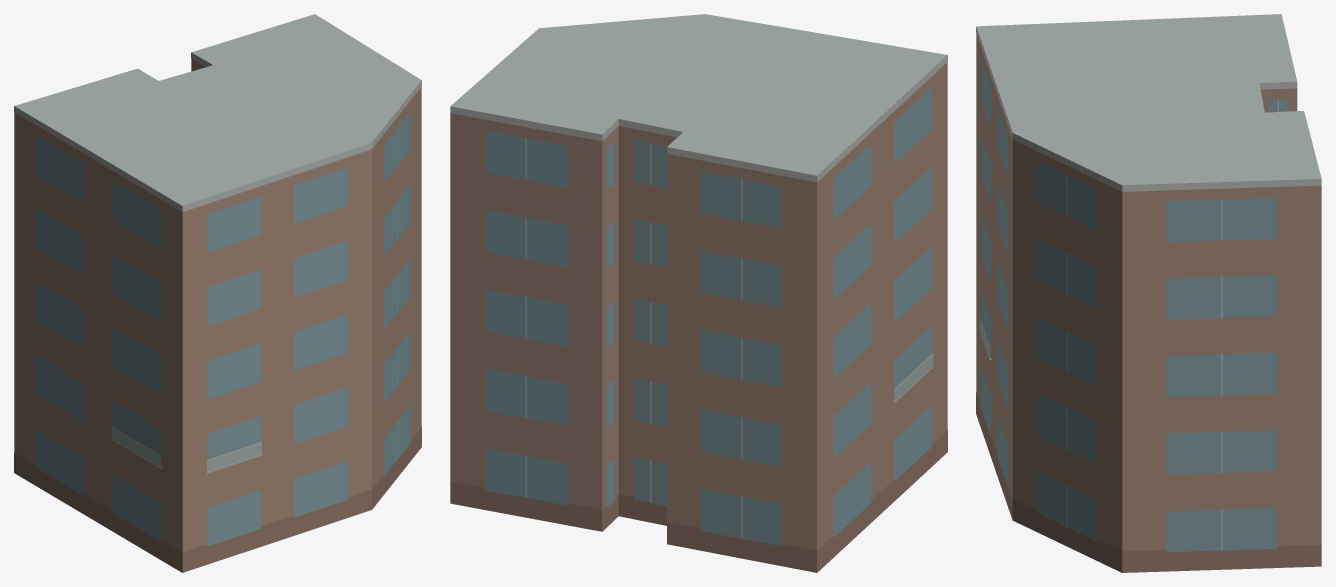
File: survey-upis-32553300.glb
The picture shows the model from 3 angles, left to right: view 1: azimuth 30°, elevation 25°; view 2: azimuth 150°, elevation 25°; view 3: azimuth 270°, elevation 25°; orthographic projection. The views are drawn at different scales.
Parts seen in each view (by area): view 1: survey-upis-32553300.tmp; view 2: survey-upis-32553300.tmp; view 3: survey-upis-32553300.tmp.
Boxes of the visible parts, x1,y1,x2,y2 form: survey-upis-32553300.tmp: (14,14,421,572); survey-upis-32553300.tmp: (450,14,947,572); survey-upis-32553300.tmp: (976,14,1321,572).
Bounding box in the file's own units: 13.56 × 14.3 × 11.56.
